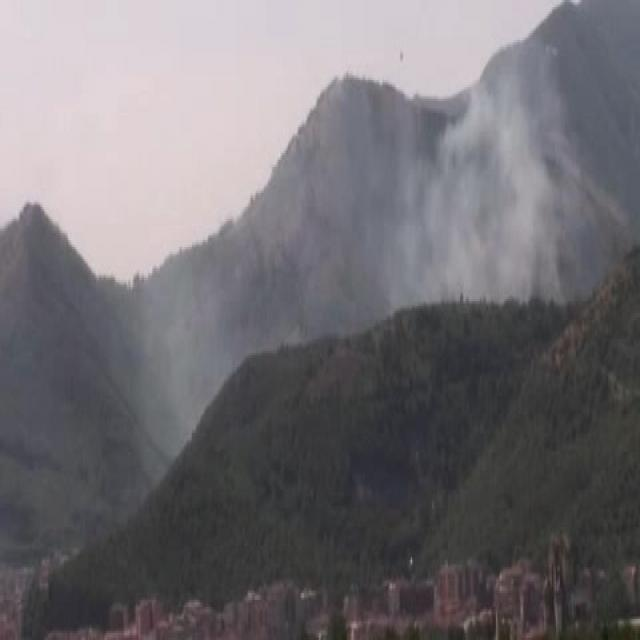smoke: (384, 79, 563, 303)
